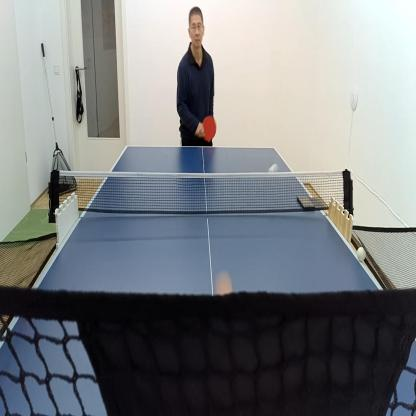Ball: (213, 270, 233, 294), (356, 244, 368, 266), (268, 163, 278, 177)
